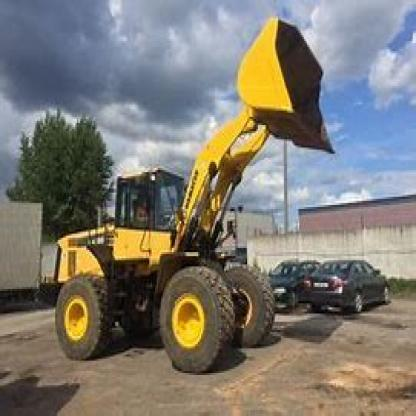bull_dozer/loader/grader: (38, 2, 344, 377)
